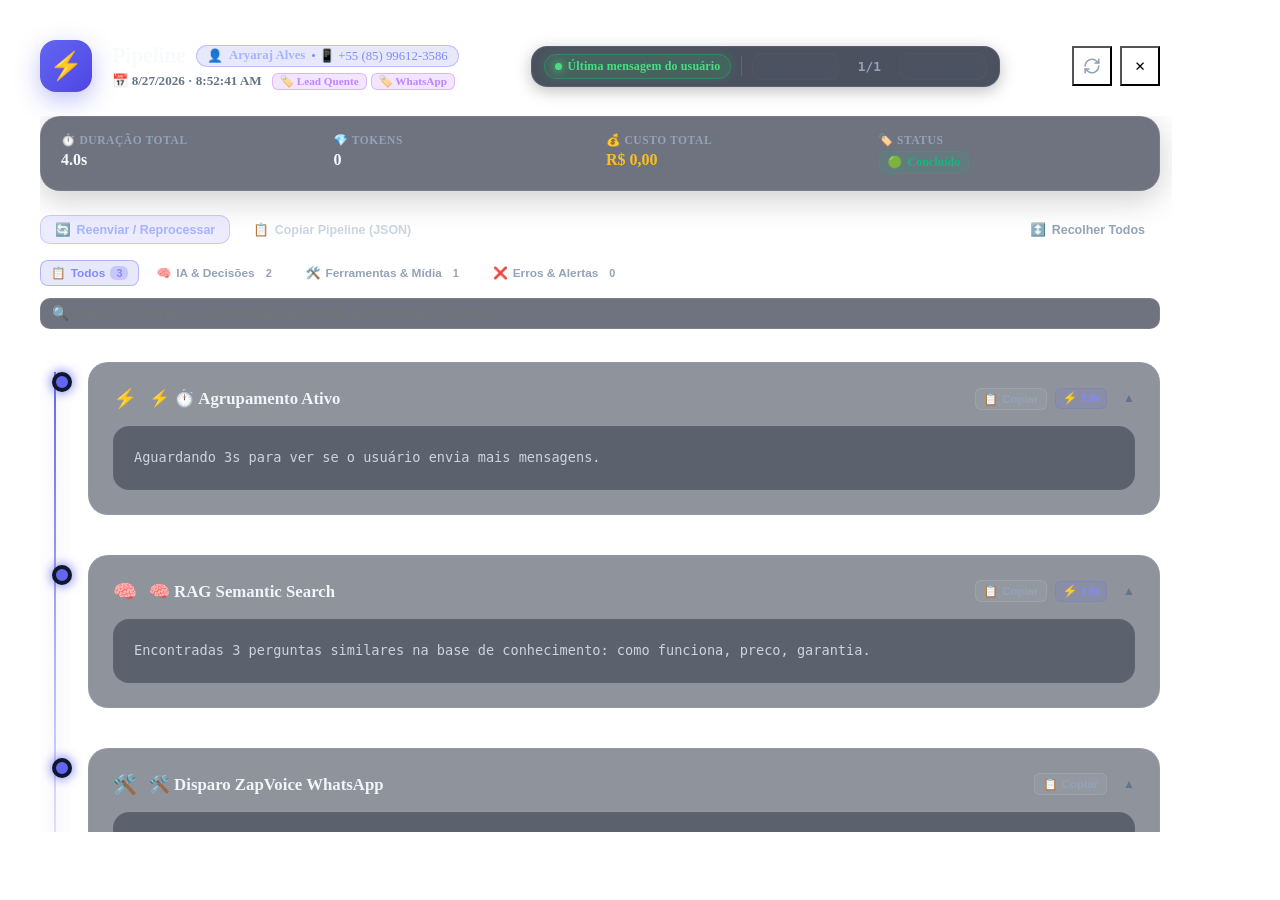
Test: AutomationPipelineModal - Novas Funcionalidades (02, 03, 04) › Opção 04: Deve alternar entre "Recolher Todos" e "Expandir Todos"
This screenshot has width=1280, height=900.
Click the text "Recolher Todos" at x=1098, y=230, box [1052,222,1145,236]
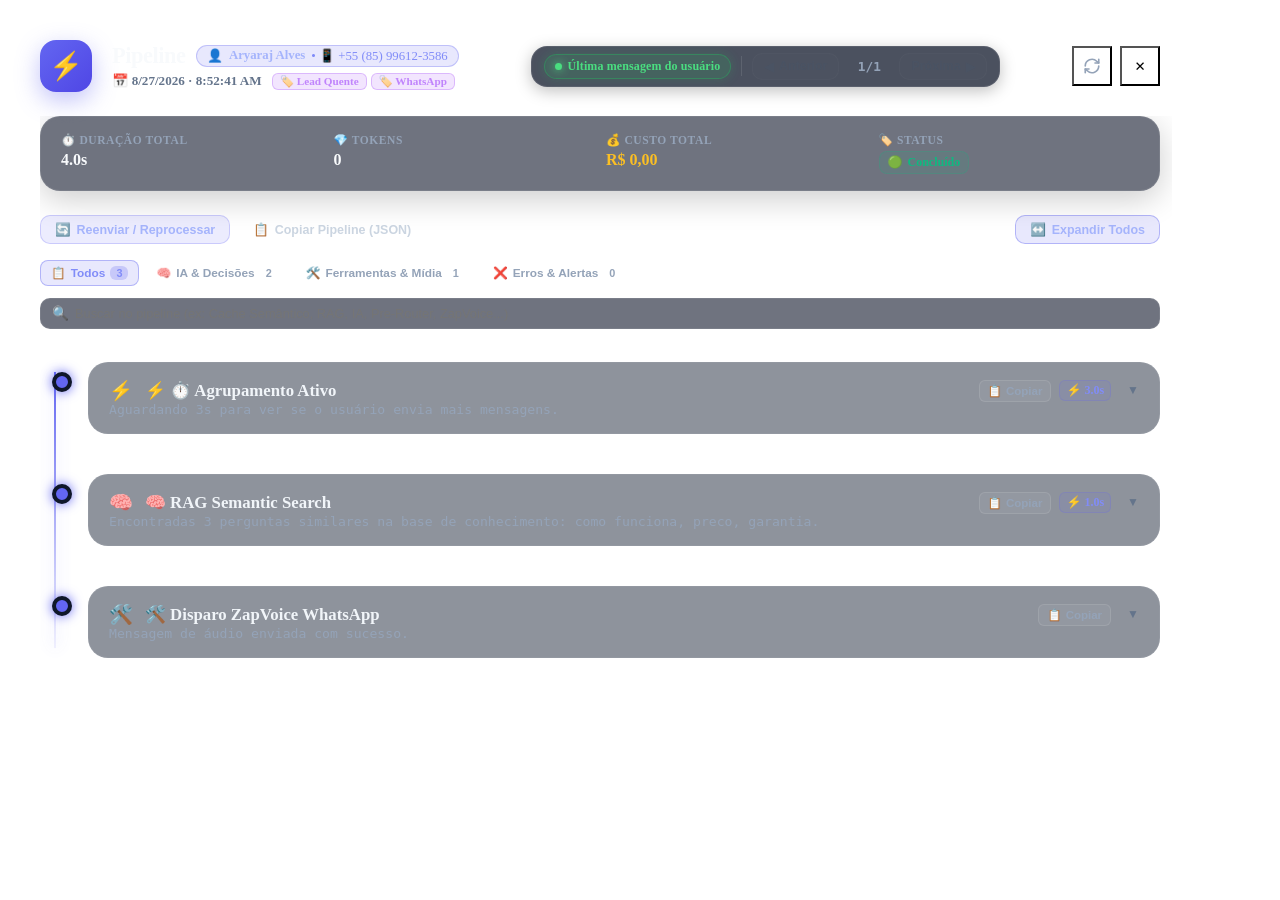
Check: the text "Expandir Todos" is shown
# Clica para expandir novamente
Click the text "Expandir Todos" at x=1098, y=230, box [1052,222,1145,236]
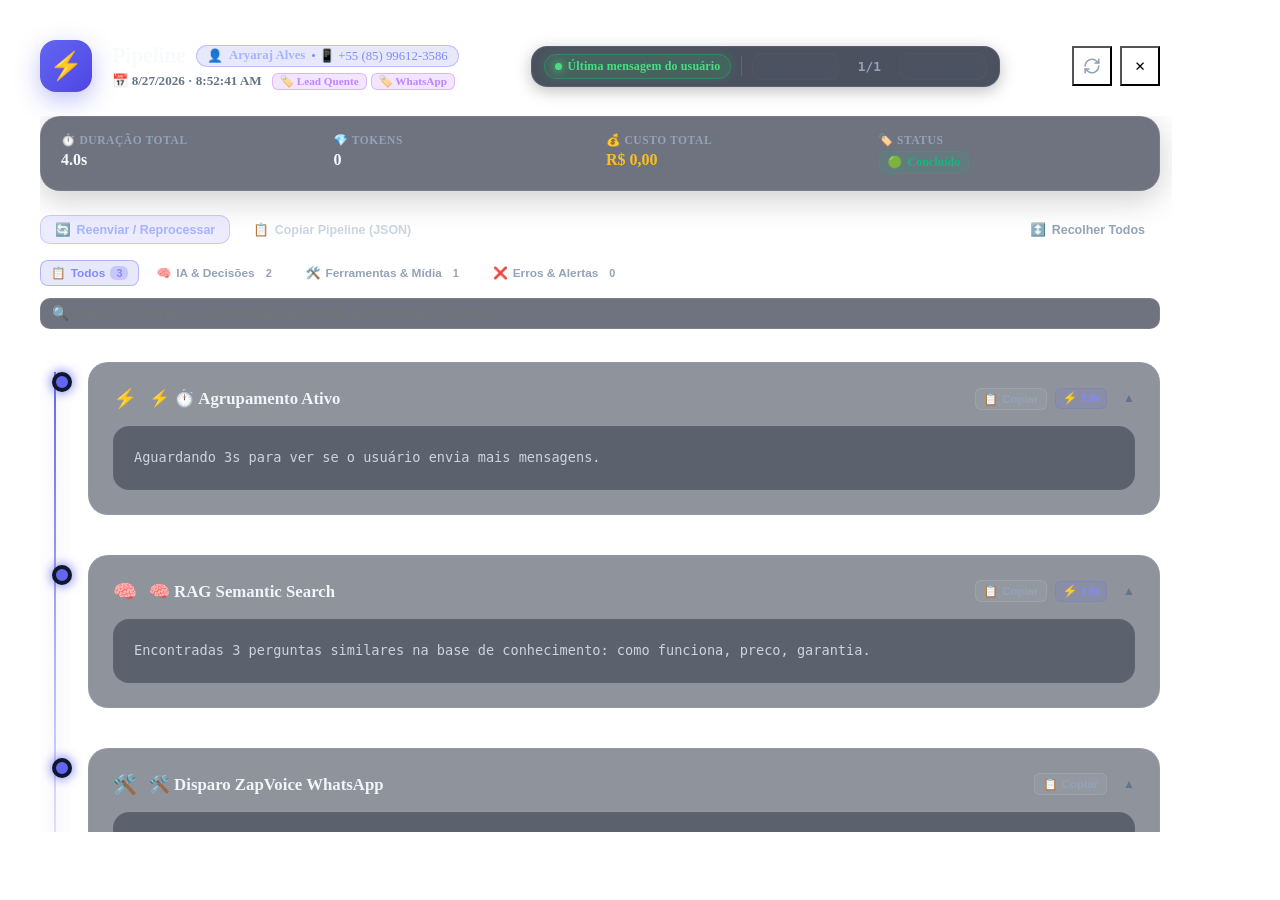
Check: the text "Recolher Todos" is shown, box [1052,222,1145,236]
